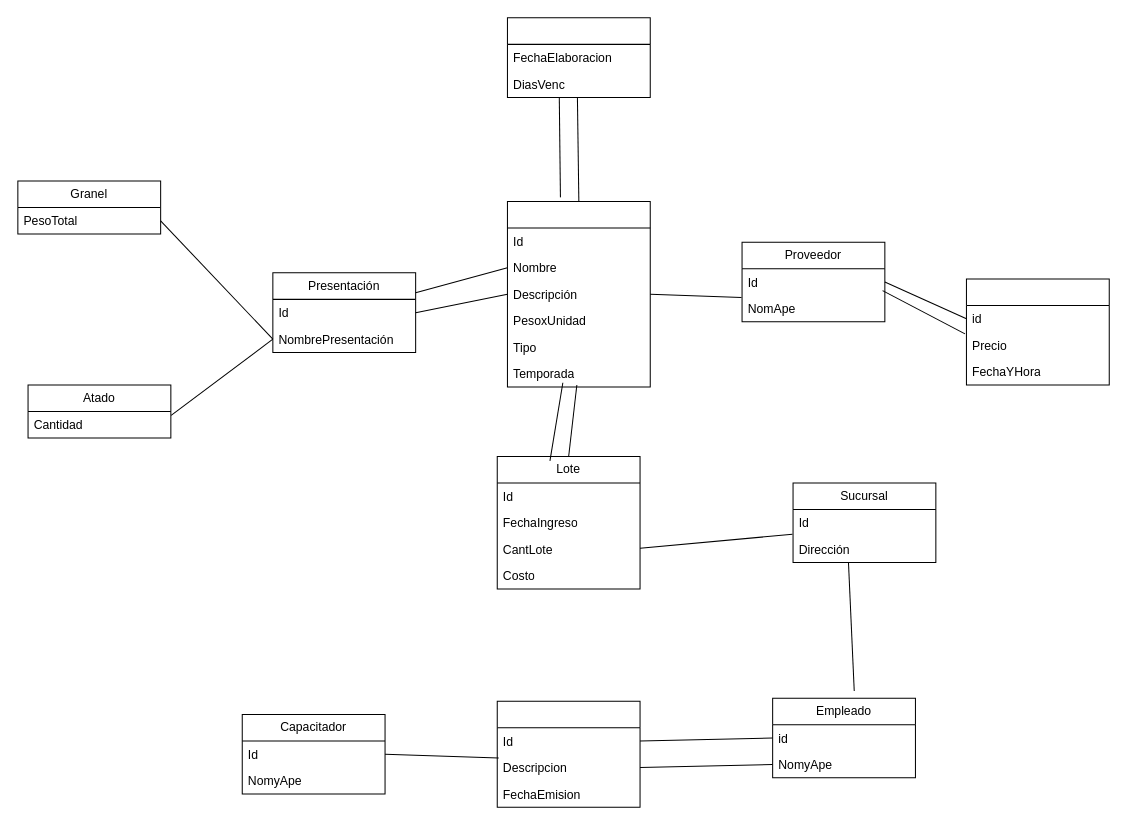
This 1127x828 diagram has some shape labels left out. Here are the shapes that lost their labels. From the top down, the box of each, then its label:
(506, 17, 650, 97): Vida útil
(506, 200, 650, 387): Producto
(965, 278, 1109, 385): Lista precio
(496, 700, 640, 807): Certificado curso
